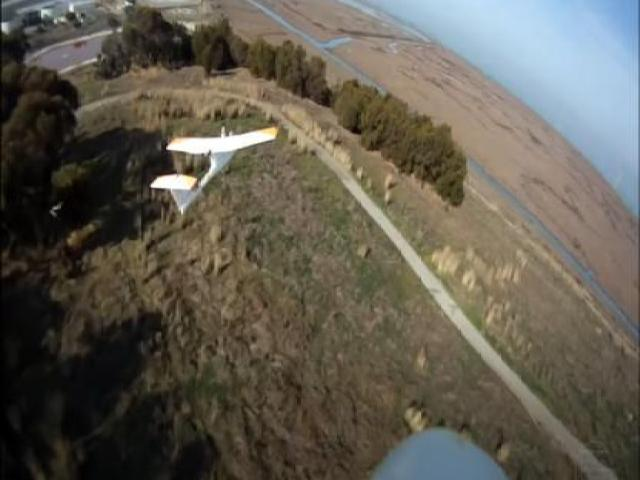uav: (145, 116, 284, 220)
